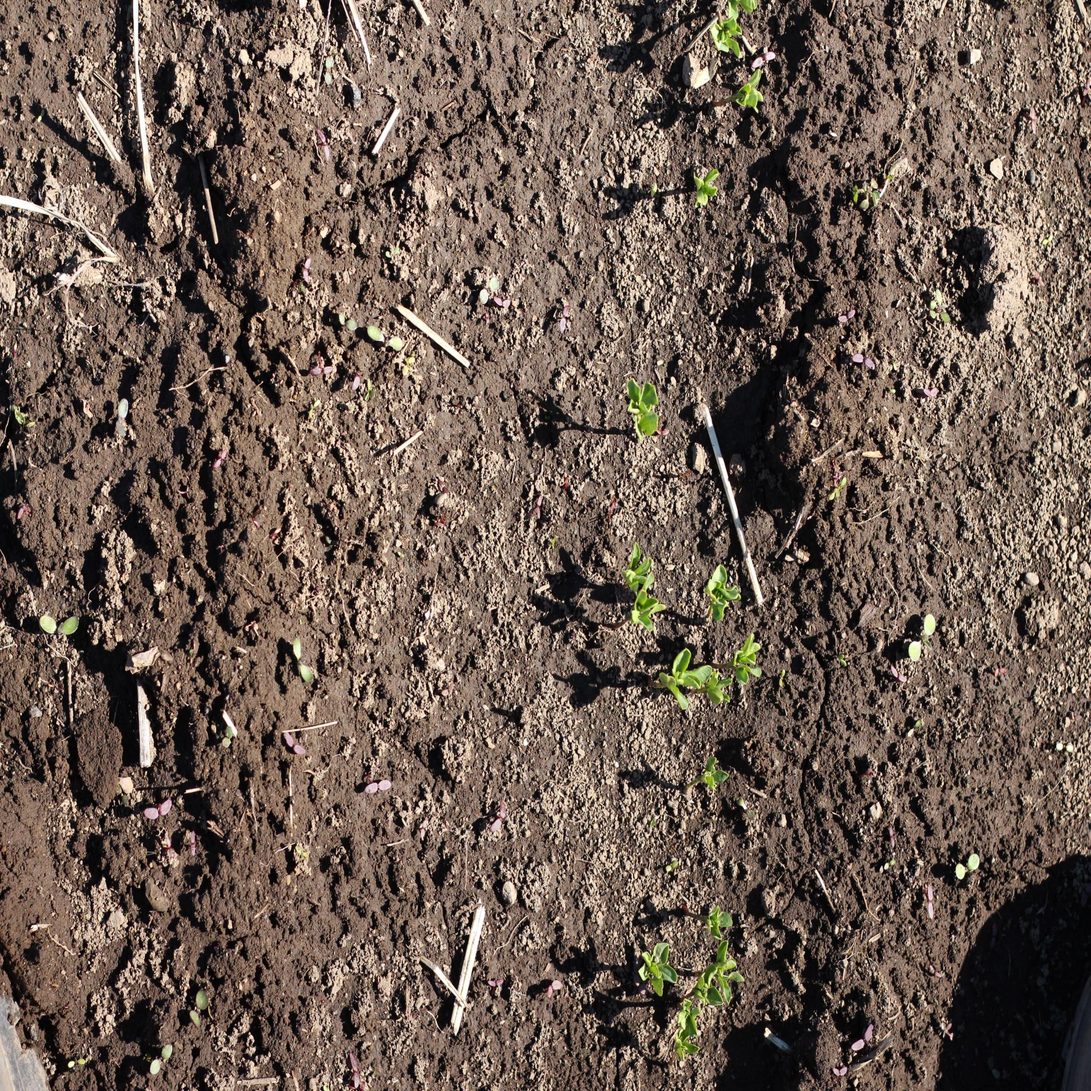AMBEL: (909, 614, 938, 665), (38, 615, 82, 641), (366, 321, 403, 351), (292, 640, 314, 684), (149, 1041, 174, 1077), (955, 853, 983, 883), (190, 989, 209, 1028), (481, 274, 500, 310), (936, 287, 951, 324), (830, 474, 849, 500), (338, 309, 357, 332), (988, 1056, 1004, 1081), (323, 54, 334, 86), (908, 716, 923, 737), (306, 400, 321, 421), (364, 377, 376, 403), (739, 798, 755, 817), (294, 841, 310, 860), (402, 352, 414, 375), (1056, 743, 1076, 756), (67, 1058, 88, 1070), (68, 1052, 87, 1065), (648, 181, 659, 203), (385, 243, 400, 259), (665, 858, 679, 875), (884, 859, 898, 873), (928, 298, 936, 322), (780, 669, 789, 690), (1042, 232, 1055, 246), (890, 350, 899, 370), (835, 650, 845, 666), (651, 815, 659, 832), (395, 549, 404, 560), (552, 534, 556, 553), (888, 384, 895, 394)
LENCU: (659, 650, 712, 712), (695, 936, 742, 1000), (641, 941, 680, 997), (708, 565, 743, 623), (628, 376, 661, 437), (711, 7, 746, 59), (734, 633, 765, 688), (626, 544, 657, 597), (632, 593, 668, 635), (735, 69, 766, 112), (696, 166, 722, 207), (703, 756, 731, 793), (708, 905, 736, 939), (679, 999, 703, 1038), (709, 671, 734, 708), (676, 1033, 700, 1062), (727, 0, 762, 19)
POLAV: (231, 65, 245, 84), (884, 163, 895, 182)
POLPE: (113, 394, 131, 439), (143, 799, 174, 823), (852, 1022, 875, 1053), (282, 732, 306, 758), (752, 49, 780, 70), (221, 712, 238, 744), (490, 801, 506, 834), (364, 779, 392, 797), (852, 351, 878, 368), (348, 1051, 359, 1090), (319, 127, 331, 162), (926, 885, 936, 921), (559, 305, 570, 336), (888, 662, 904, 683), (839, 306, 858, 323), (549, 979, 565, 999), (213, 447, 227, 469), (310, 363, 333, 375), (941, 1020, 954, 1041), (302, 255, 311, 284), (929, 963, 944, 980), (1029, 106, 1038, 134), (492, 295, 511, 308), (888, 826, 898, 850), (830, 1059, 846, 1074), (17, 503, 31, 520), (165, 838, 176, 859), (189, 831, 197, 859), (269, 523, 282, 540), (350, 373, 361, 392), (924, 384, 941, 396), (418, 820, 426, 842), (487, 978, 503, 989), (534, 493, 541, 518), (438, 473, 447, 492), (1035, 270, 1045, 287), (1084, 78, 1090, 104), (995, 668, 1009, 679), (439, 689, 452, 700), (423, 609, 432, 623), (178, 485, 190, 495), (251, 515, 260, 528), (435, 514, 445, 525)
